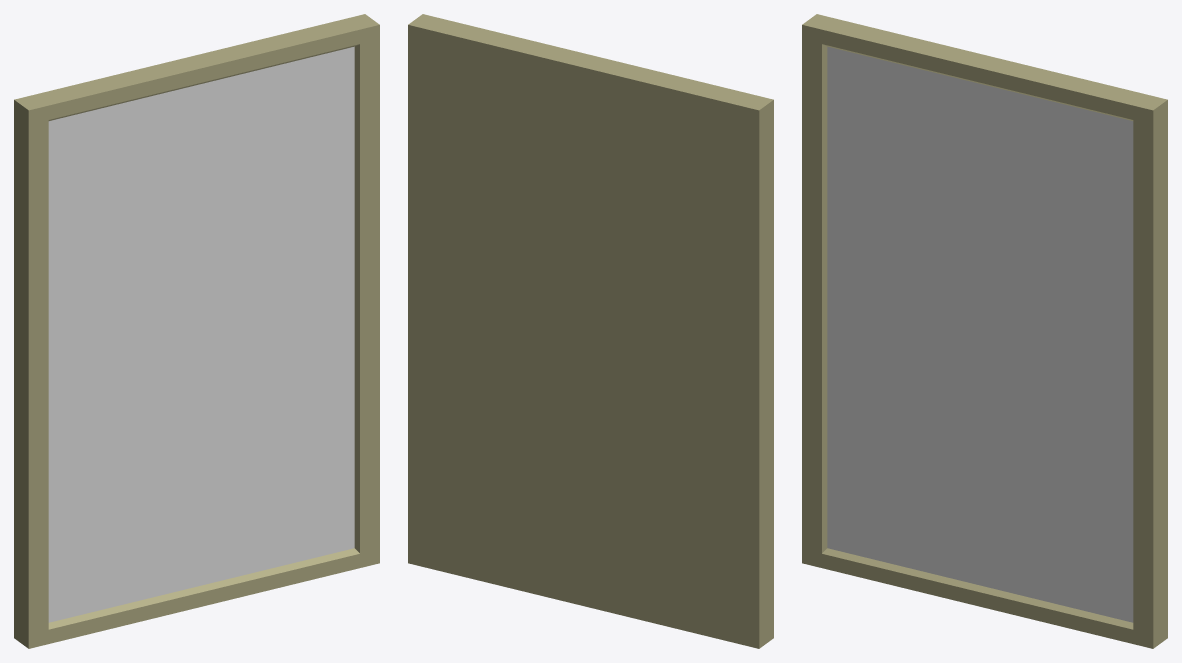
File: Bathroom Mirror.fbx
The picture shows the model from 3 angles, left to right: view 1: azimuth 30°, elevation 25°; view 2: azimuth 150°, elevation 25°; view 3: azimuth 330°, elevation 25°; orthographic projection.
Parts seen in each view (by area): view 1: Mirror Bathroom; view 2: Mirror Bathroom; view 3: Mirror Bathroom.
Boxes of the visible parts, x1,y1,x2,y2 form: Mirror Bathroom: (14,14,379,648); Mirror Bathroom: (408,14,773,648); Mirror Bathroom: (802,14,1167,648).
Size of the model in its own units: 147 by 216 by 10.72.
